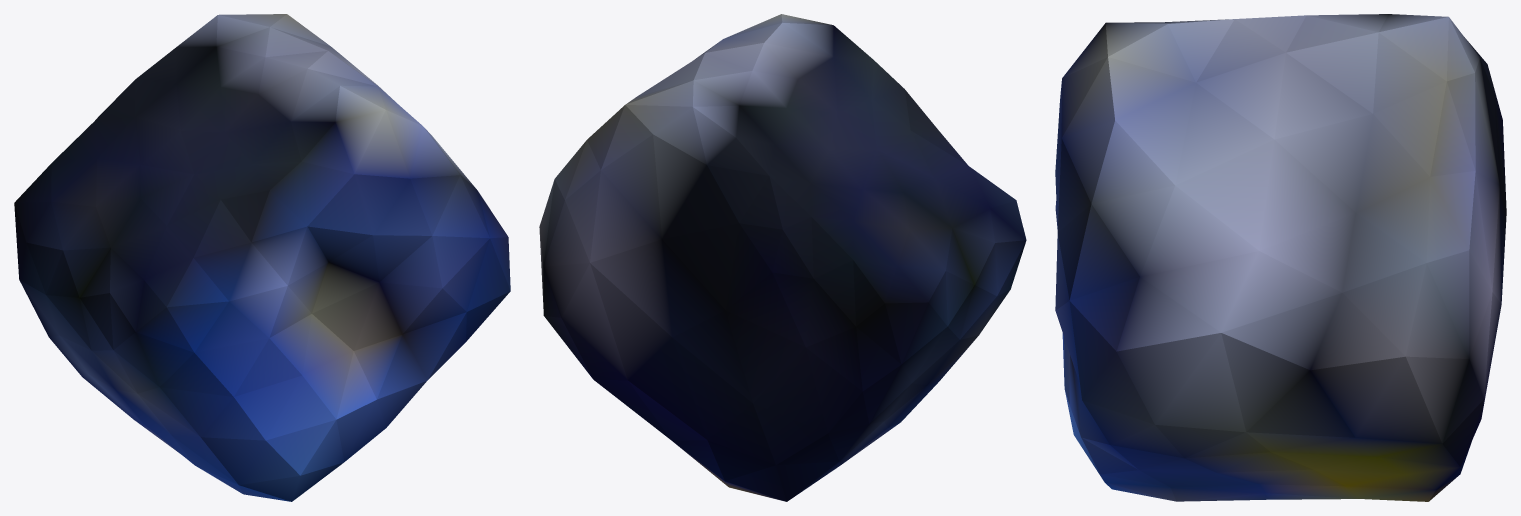
File: intel-box.dae
3 renders of one model, left to right at view 1: azimuth 30°, elevation 25°; view 2: azimuth 150°, elevation 25°; view 3: azimuth 270°, elevation 25°, orthographic. The views are drawn at different scales.
Visible parts, largest first — view 1: node; view 2: node; view 3: node.
Part boxes in pixels (x1,y1,x2,y2): node: (14, 14, 510, 501); node: (539, 14, 1026, 501); node: (1055, 14, 1506, 501).
Size of the model in its own units: 0.1321 by 0.1268 by 0.1004.
